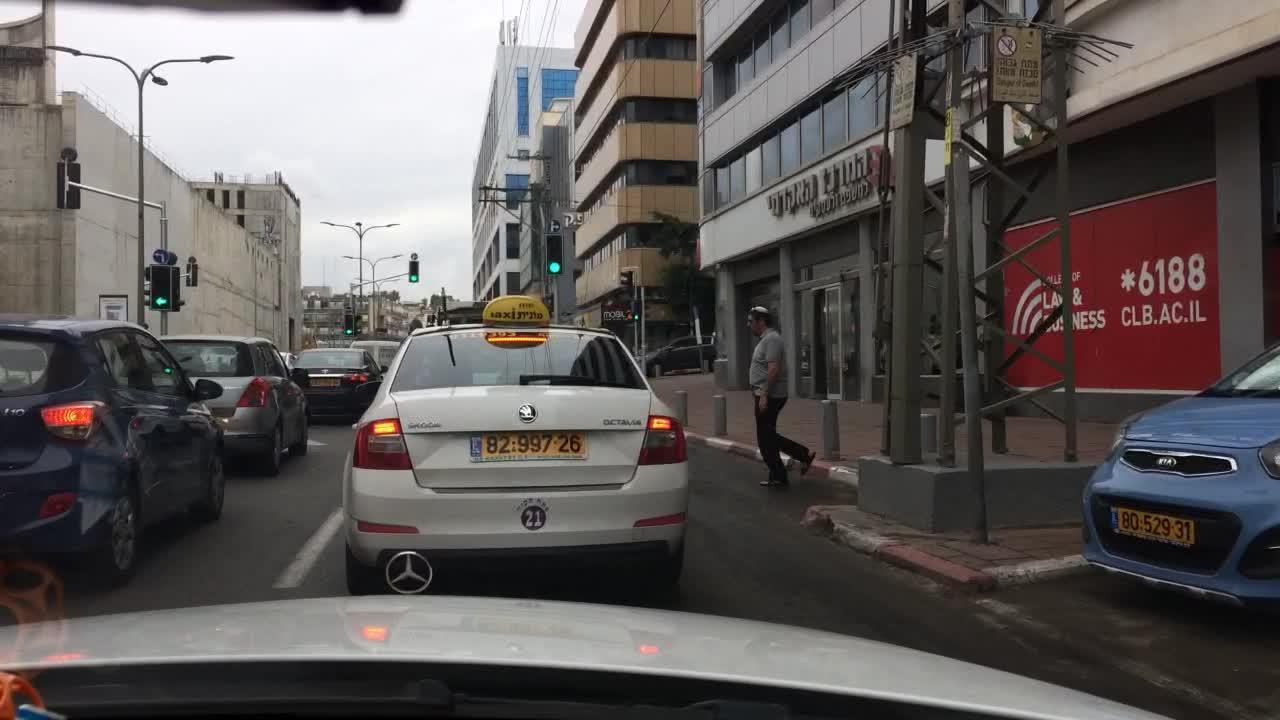skoda: (516, 400, 543, 429)
